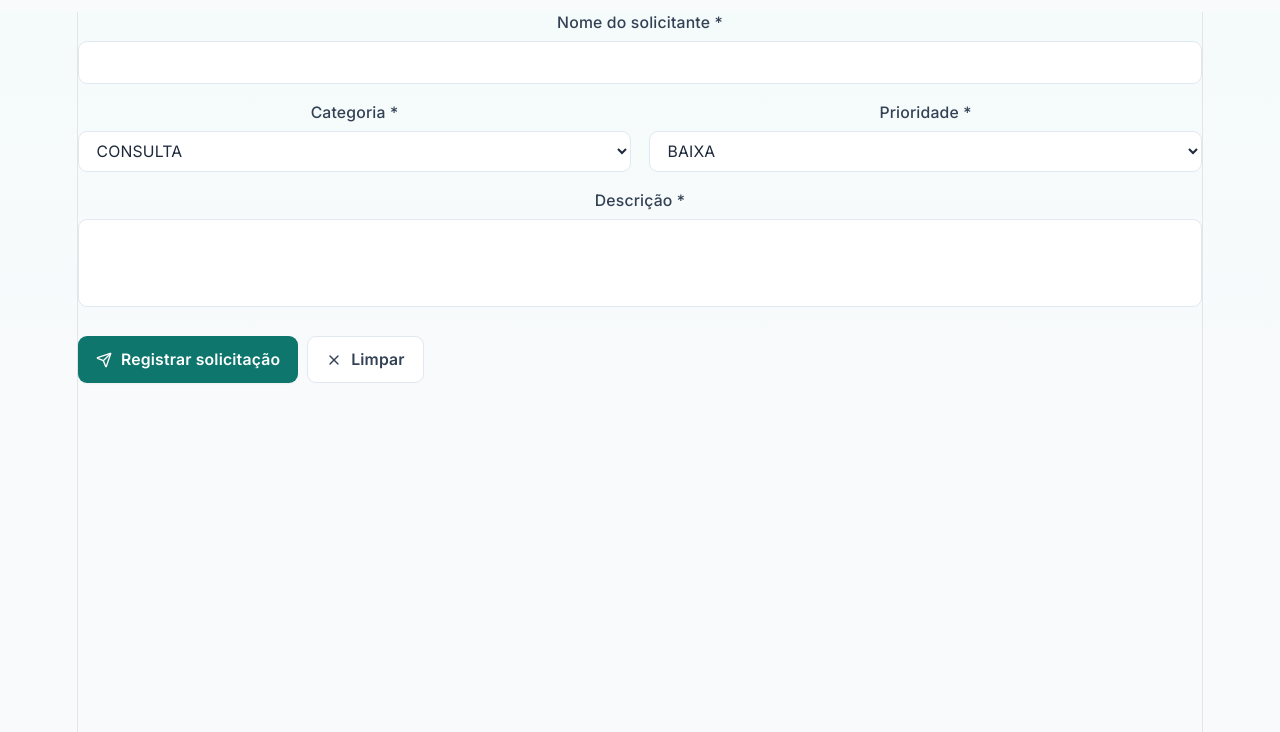
FormularioSolicitacao › mostra o campo de justificativa ao selecionar prioridade URGENTE
Select "URGENTE" in the dropdown labelled "Prioridade *": (926, 152) [649,131,1202,172]
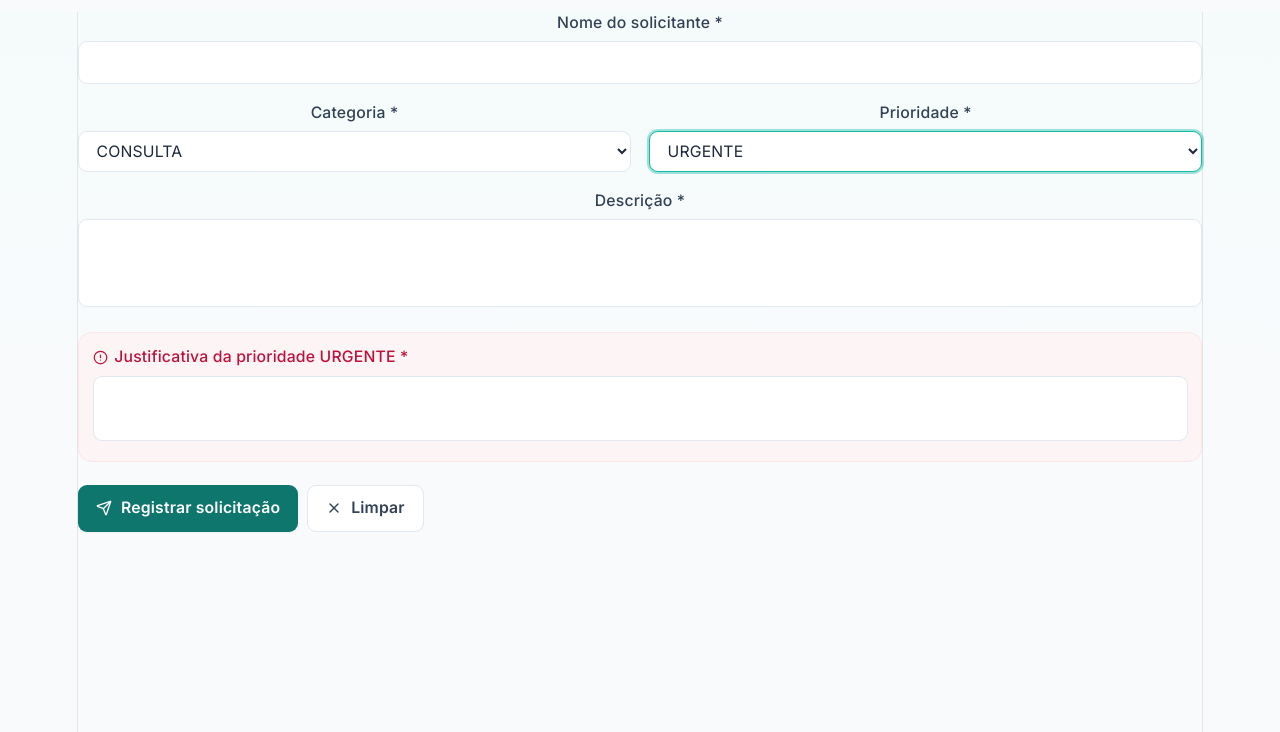
Result: the text box labelled "Justificativa da prioridade URGENTE *" is shown at [92,376,1188,441]
